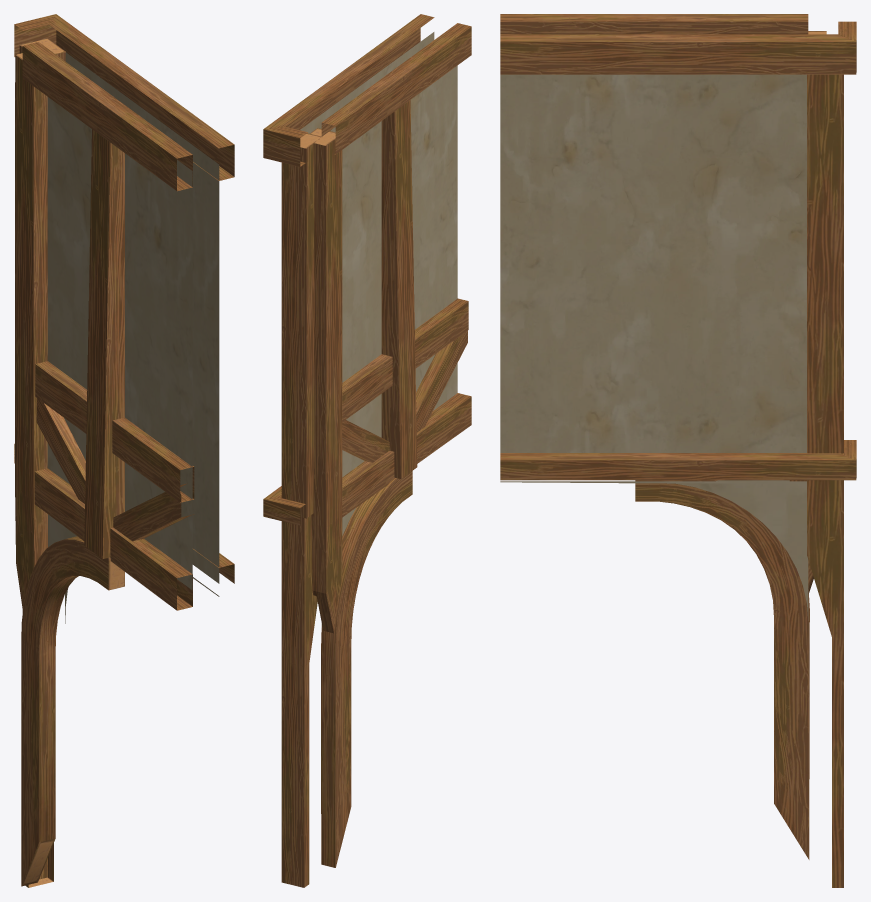
Rendered from Overhang_Side_Plaster_Long_L.glb.
3 views of the same model, side by side, from view 1: azimuth 30°, elevation 25°; view 2: azimuth 150°, elevation 25°; view 3: azimuth 270°, elevation 25° (orthographic). The views are drawn at different scales.
Visible parts, largest first — view 1: Overhang_Side_Plaster_Long_L; view 2: Overhang_Side_Plaster_Long_L; view 3: Overhang_Side_Plaster_Long_L.
Boxes of the visible parts, bbox=[...] form: Overhang_Side_Plaster_Long_L: bbox=[14, 14, 234, 887]; Overhang_Side_Plaster_Long_L: bbox=[263, 14, 471, 887]; Overhang_Side_Plaster_Long_L: bbox=[500, 14, 856, 887].
Size of the model in its own units: 0.4794 by 6.12 by 2.31.
Materials: 2 (2 with a texture image).
